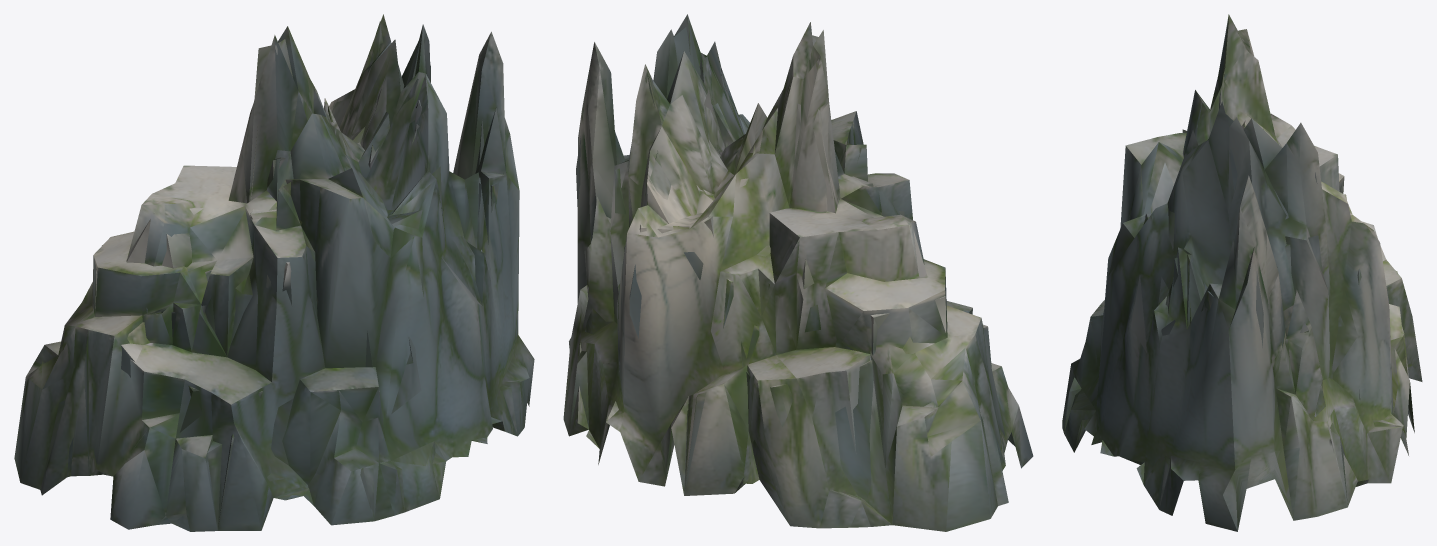
File: SaddlePeaks_LOD1.fbx
3 renders of one model, left to right at view 1: azimuth 30°, elevation 25°; view 2: azimuth 150°, elevation 25°; view 3: azimuth 270°, elevation 25°, orthographic. The views are drawn at different scales.
Parts seen in each view (by area): view 1: SaddlePeaks_LOD1; view 2: SaddlePeaks_LOD1; view 3: SaddlePeaks_LOD1.
Boxes of the visible parts, x1,y1,x2,y2 form: SaddlePeaks_LOD1: (14, 14, 534, 531); SaddlePeaks_LOD1: (563, 14, 1033, 531); SaddlePeaks_LOD1: (1062, 14, 1422, 531).
Bounding box in the file's own units: 36.79 × 32.22 × 25.85.
Materials: 1 (1 with a texture image).
